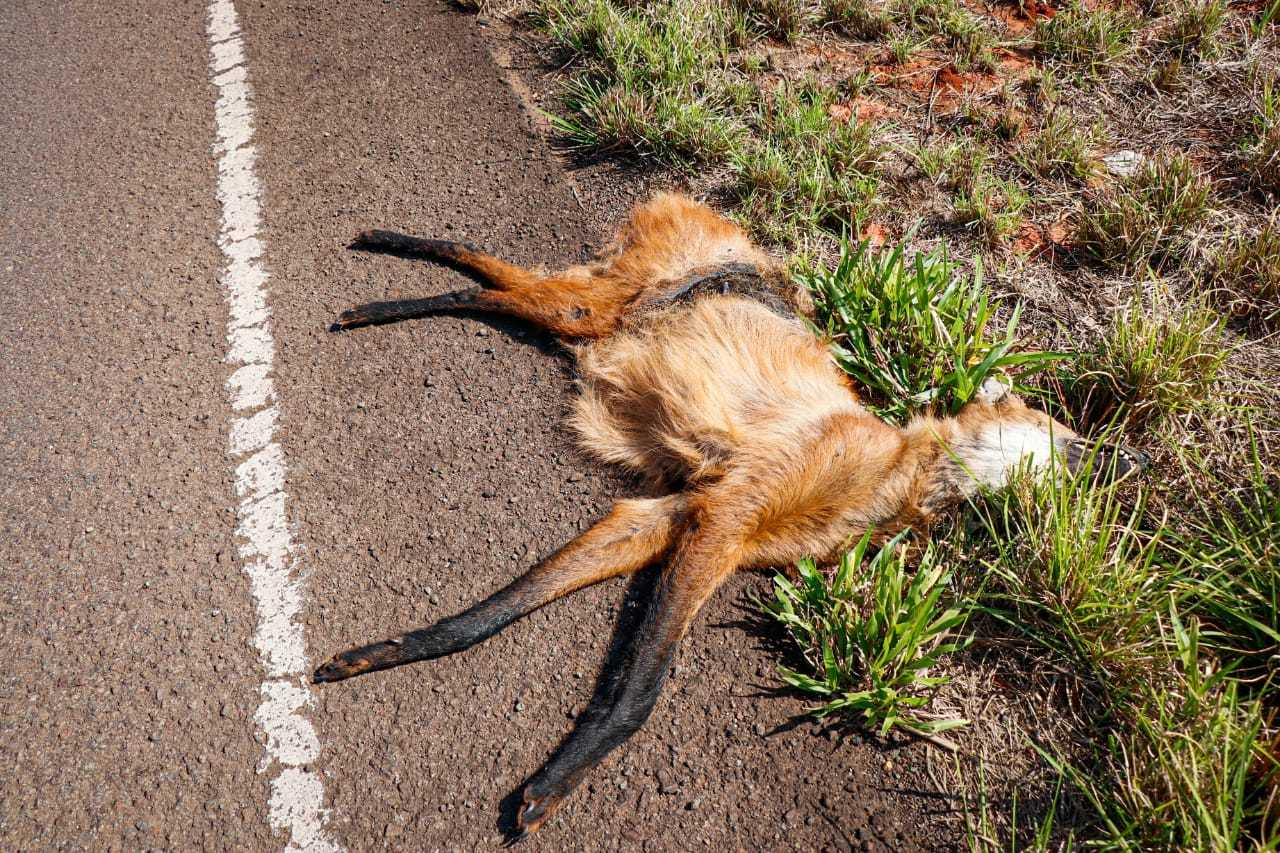LoboGuara: (308, 190, 1156, 812)
